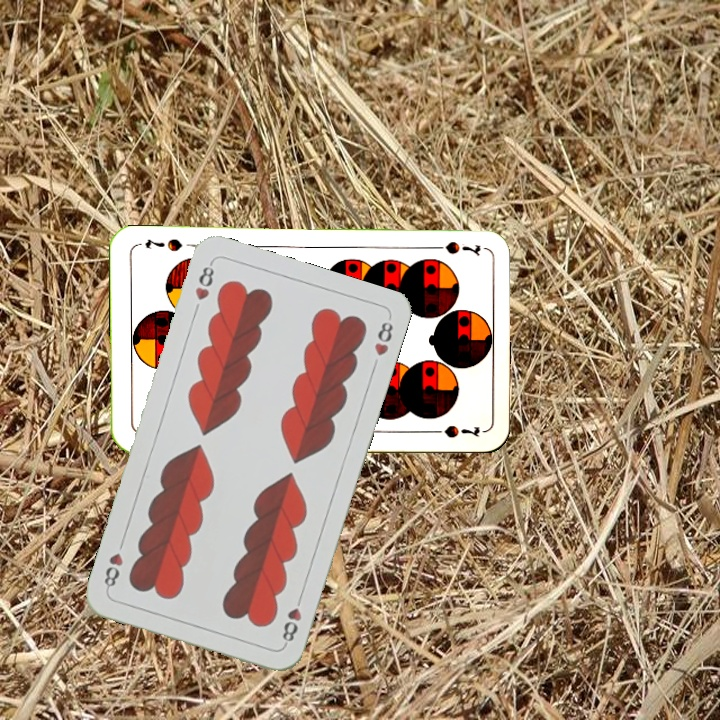H8: (278, 591, 305, 648), (191, 258, 217, 303)
S7: (424, 237, 483, 258)
